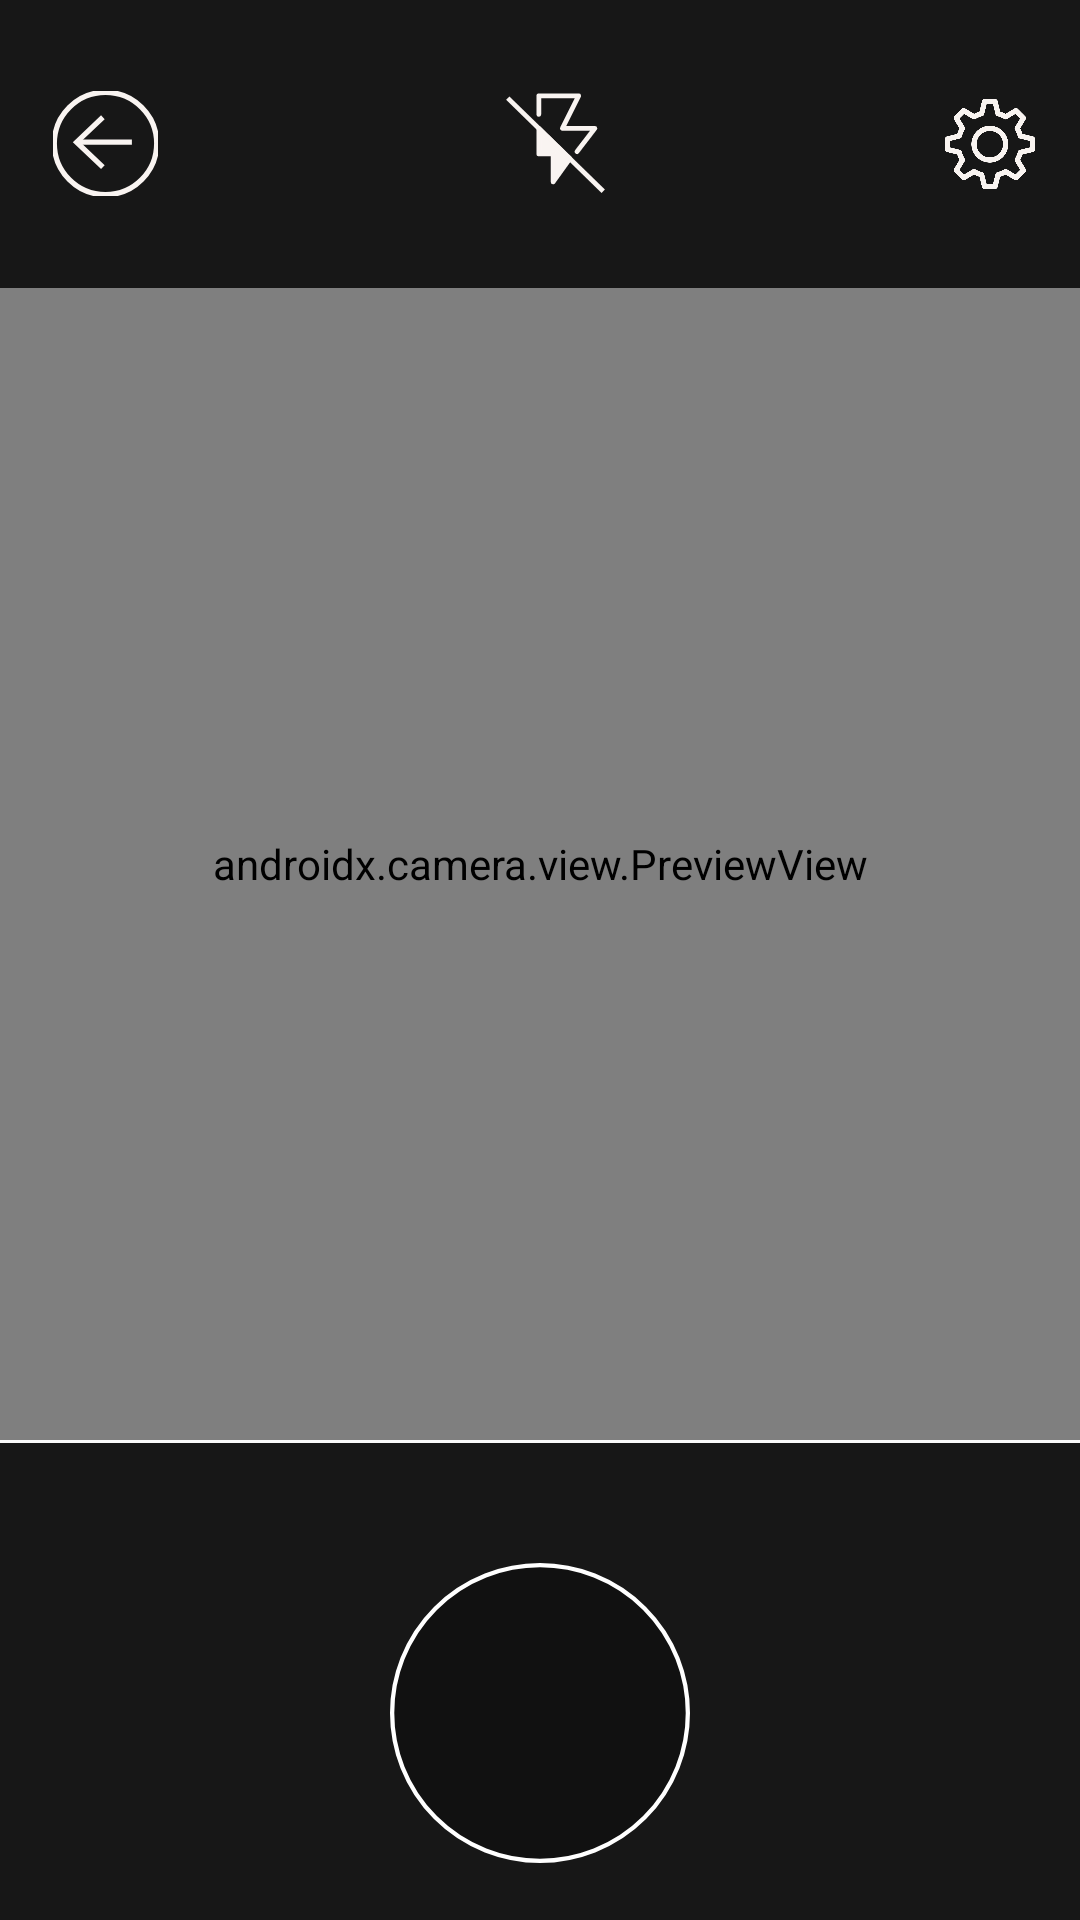

Point at icon controls on the screen. Image size 1080 x 1920, points as [x,y].
ajustes: [990,144]
flash camara: [555,143]
flecharound: [105,143]
